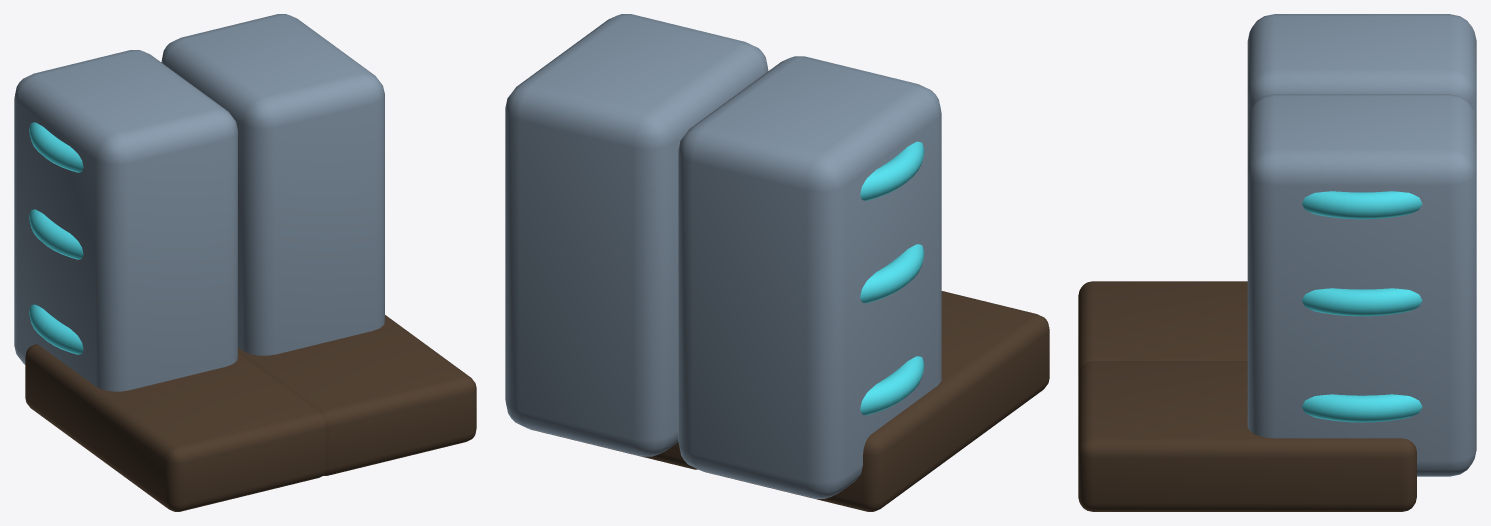
Rendered from boots_v7.glb.
3 renders of one model, left to right at view 1: azimuth 30°, elevation 25°; view 2: azimuth 150°, elevation 25°; view 3: azimuth 270°, elevation 25°, orthographic. The views are drawn at different scales.
Visible parts, largest first — view 1: DIVER_BOOT_PRIMARY, DIVER_BOOT_PRIMARY.001, DIVER_SOLE_SECONDARY, DIVER_SOLE_SECONDARY.001, DIVER_RING_ACCENT.001, DIVER_RING_ACCENT.002, DIVER_RING_ACCENT; view 2: DIVER_BOOT_PRIMARY, DIVER_BOOT_PRIMARY.001, DIVER_SOLE_SECONDARY, DIVER_RING_ACCENT, DIVER_RING_ACCENT.001, DIVER_RING_ACCENT.002; view 3: DIVER_BOOT_PRIMARY.001, DIVER_SOLE_SECONDARY.001, DIVER_BOOT_PRIMARY, DIVER_SOLE_SECONDARY, DIVER_RING_ACCENT.003, DIVER_RING_ACCENT.004, DIVER_RING_ACCENT.005.
Boxes of the visible parts, left/top/right/bottom form: DIVER_BOOT_PRIMARY: left=14, top=50, right=237, bottom=391; DIVER_BOOT_PRIMARY.001: left=161, top=14, right=384, bottom=355; DIVER_SOLE_SECONDARY: left=25, top=344, right=326, bottom=511; DIVER_SOLE_SECONDARY.001: left=238, top=315, right=476, bottom=475; DIVER_RING_ACCENT.001: left=29, top=209, right=83, bottom=259; DIVER_RING_ACCENT.002: left=29, top=122, right=83, bottom=172; DIVER_RING_ACCENT: left=29, top=304, right=83, bottom=354; DIVER_BOOT_PRIMARY: left=678, top=56, right=941, bottom=498; DIVER_BOOT_PRIMARY.001: left=505, top=14, right=768, bottom=456; DIVER_SOLE_SECONDARY: left=703, top=291, right=1049, bottom=511; DIVER_RING_ACCENT: left=860, top=356, right=924, bottom=415; DIVER_RING_ACCENT.001: left=860, top=244, right=924, bottom=303; DIVER_RING_ACCENT.002: left=860, top=141, right=924, bottom=200; DIVER_BOOT_PRIMARY.001: left=1247, top=94, right=1476, bottom=476; DIVER_SOLE_SECONDARY.001: left=1078, top=361, right=1416, bottom=511; DIVER_BOOT_PRIMARY: left=1247, top=14, right=1476, bottom=119; DIVER_SOLE_SECONDARY: left=1078, top=281, right=1247, bottom=374; DIVER_RING_ACCENT.003: left=1302, top=394, right=1422, bottom=422; DIVER_RING_ACCENT.004: left=1302, top=288, right=1422, bottom=316; DIVER_RING_ACCENT.005: left=1302, top=191, right=1422, bottom=219.
Size of the model in its own units: 1.63 by 1.55 by 1.6.
